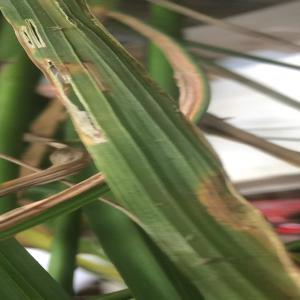2 BacterialBlight: (155, 138, 282, 300)
